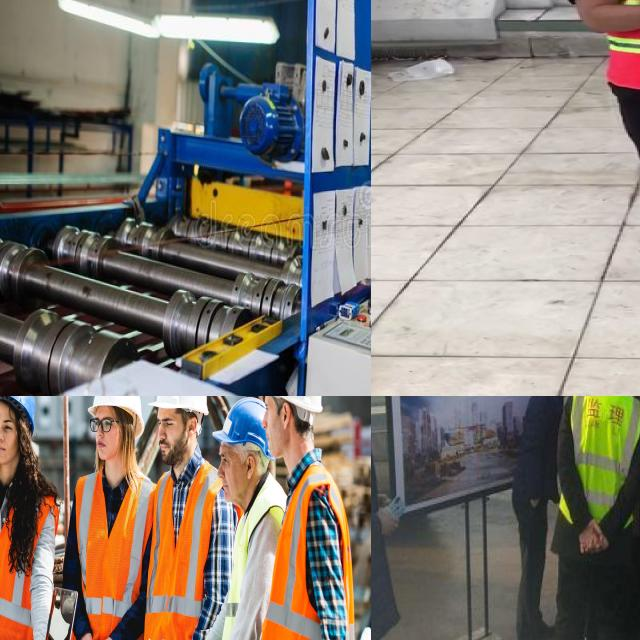No_Ear-Protection: (186, 414, 202, 440), (280, 400, 293, 430), (244, 453, 258, 480)
No_Glasses: (154, 413, 182, 432), (0, 413, 18, 435), (218, 448, 236, 470), (262, 396, 274, 420)
face_nomask: (254, 396, 295, 455), (213, 441, 250, 505), (154, 408, 191, 467), (90, 403, 124, 458), (0, 401, 20, 462)
glasses: (88, 416, 115, 436)
hand_noglove: (86, 629, 116, 640)
head_helmet: (212, 396, 265, 448), (87, 396, 144, 435), (251, 396, 323, 414), (0, 396, 36, 432), (147, 396, 209, 415)
person: (533, 0, 640, 336), (261, 396, 357, 640), (61, 396, 146, 640), (555, 396, 640, 640), (147, 396, 219, 640), (510, 396, 568, 640), (0, 396, 52, 640), (216, 401, 269, 640)
vest: (256, 459, 355, 640), (82, 465, 154, 640), (149, 458, 217, 640), (559, 396, 640, 535), (228, 476, 288, 640), (0, 468, 39, 640)
